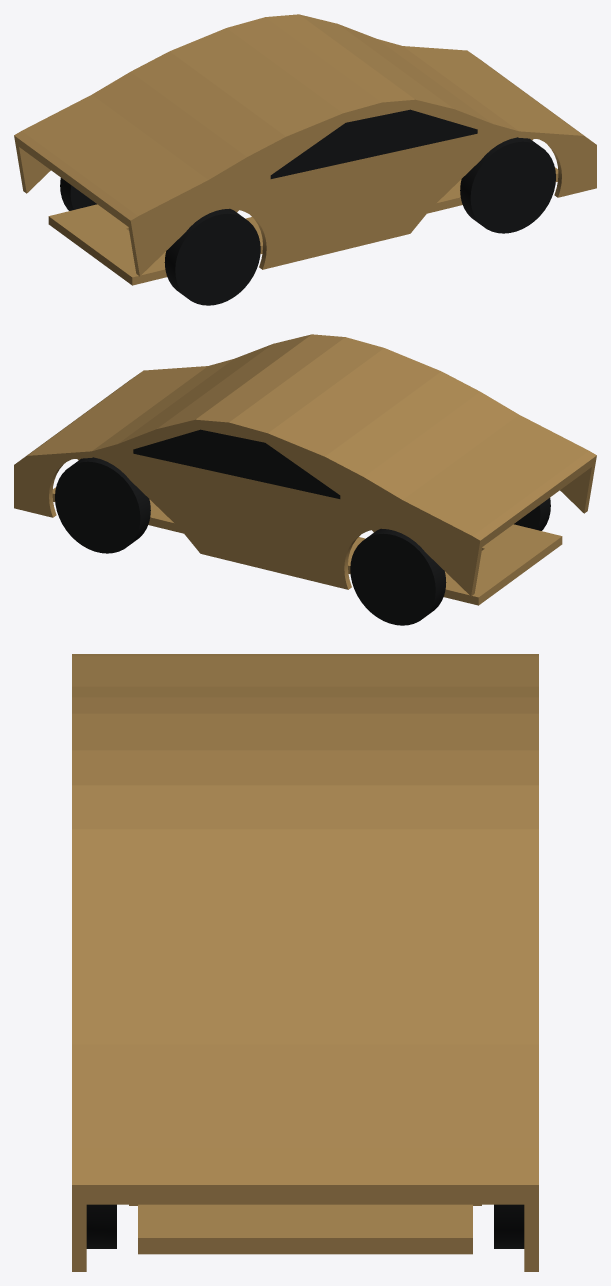
The model's file is cybercab.glb.
3 renders of one model, top to bottom at view 1: azimuth 30°, elevation 25°; view 2: azimuth 150°, elevation 25°; view 3: azimuth 270°, elevation 25°, orthographic. The views are drawn at different scales.
Visible parts, largest first — view 1: body, rear_wheelset, front_wheelset, left_window, chassis, rear_rightwheel; view 2: body, rear_rightwheel, front_rightwheel, right_window, chassis, rear_wheelset; view 3: body, chassis, front_wheelset, front_rightwheel.
Boxes of the visible parts, x1,y1,x2,y2 form: body: (14, 14, 596, 276); rear_wheelset: (164, 208, 260, 305); front_wheelset: (460, 137, 555, 233); left_window: (270, 109, 477, 178); chassis: (48, 167, 558, 285); rear_rightwheel: (60, 178, 96, 210); body: (14, 334, 596, 596); rear_rightwheel: (350, 528, 446, 625); front_rightwheel: (55, 457, 150, 553); right_window: (133, 429, 340, 498); chassis: (52, 487, 562, 605); rear_wheelset: (514, 498, 550, 530); body: (72, 654, 538, 1271); chassis: (129, 1204, 481, 1254); front_wheelset: (86, 1204, 116, 1248); front_rightwheel: (494, 1204, 524, 1248).
Bounding box in the file's own units: 0.18 × 0.06 × 0.078.
